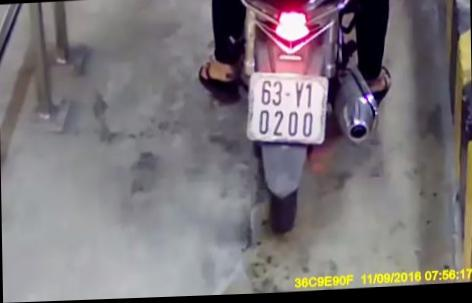LP: (244, 68, 330, 151)
